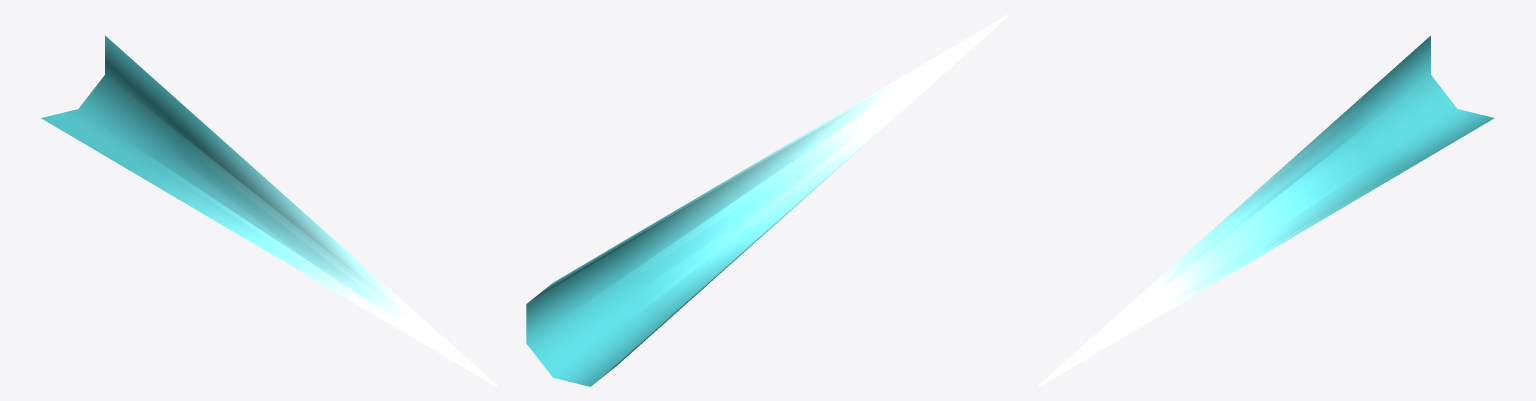
Rendered from searchlight.glb.
3 renders of one model, left to right at view 1: azimuth 30°, elevation 25°; view 2: azimuth 150°, elevation 25°; view 3: azimuth 330°, elevation 25°, orthographic.
Parts seen in each view (by area): view 1: small_light_beam; view 2: small_light_beam; view 3: small_light_beam.
Part boxes in pixels (x1,y1,x2,y2): small_light_beam: (41, 35, 497, 386); small_light_beam: (526, 14, 1008, 386); small_light_beam: (1038, 35, 1494, 386).
Size of the model in its own units: 9.59 by 9.58 by 80.
Materials: 1 (1 with a texture image).
